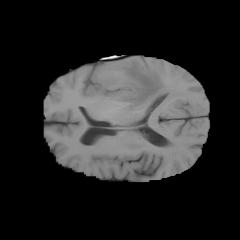glioma: (97, 60, 170, 109)
